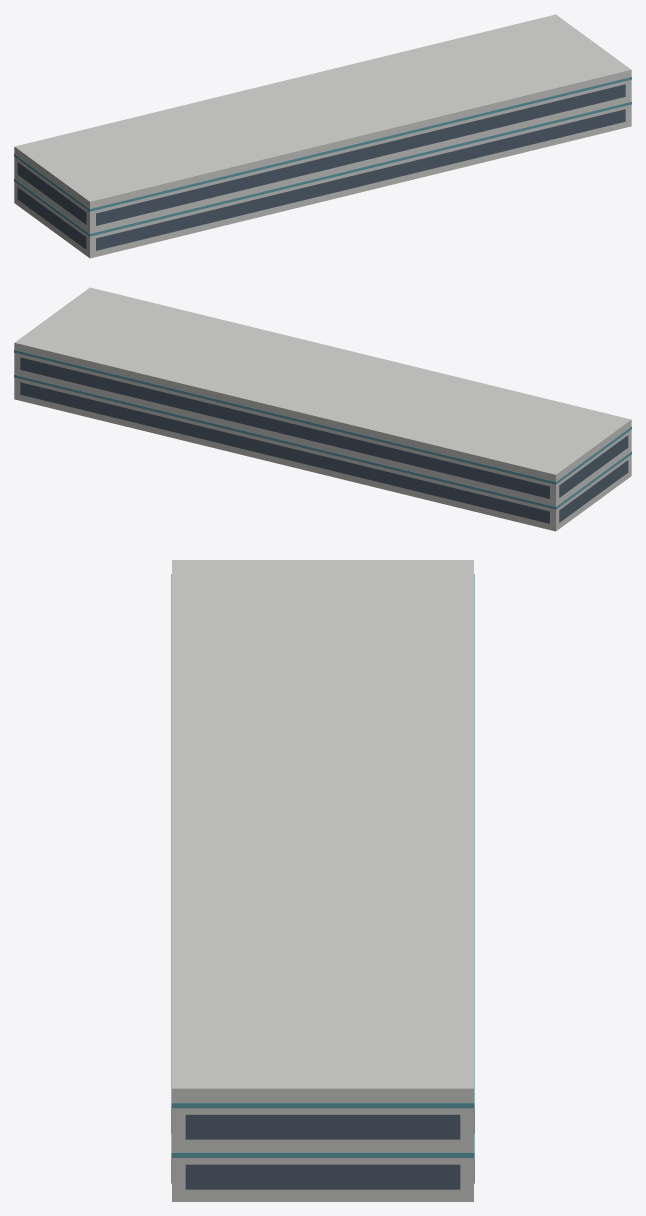
File: hosp-er.mega-v1.lod2.glb
3 views of the same model, one above another, from view 1: azimuth 30°, elevation 25°; view 2: azimuth 150°, elevation 25°; view 3: azimuth 270°, elevation 25° (orthographic). The views are drawn at different scales.
Visible parts, largest first — view 1: hosp-er; view 2: hosp-er; view 3: hosp-er.
Part boxes in pixels (x1=…): hosp-er: x1=14, y1=14, x2=631, y2=258; hosp-er: x1=14, y1=287, x2=631, y2=531; hosp-er: x1=171, y1=560, x2=474, y2=1201.
Bounding box in the file's own units: 91.1 × 9.1 × 22.1.
